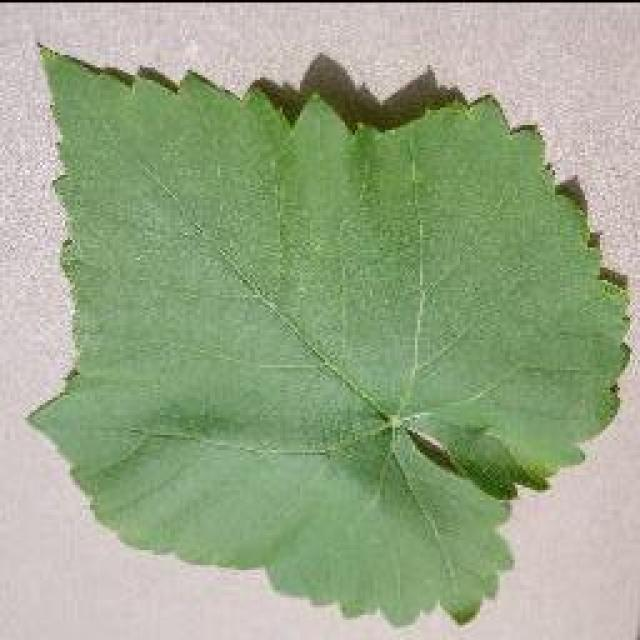Grape___healthy: (22, 41, 636, 633)
